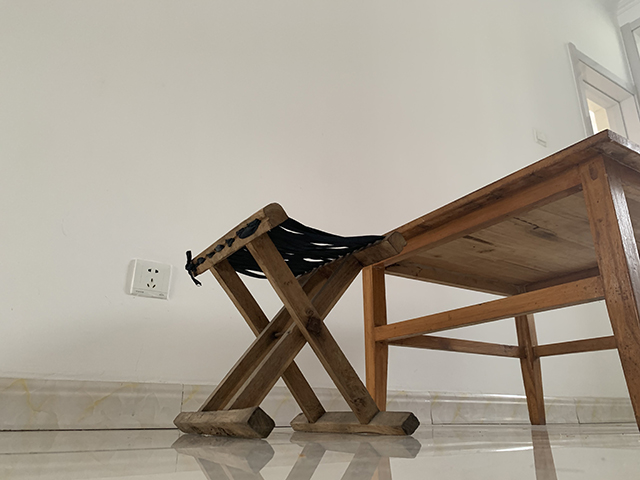stool: (171, 201, 419, 438)
table: (362, 128, 640, 429)
